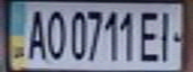0: (66, 6, 87, 61)
1: (118, 7, 139, 61), (103, 7, 121, 62)
7: (84, 6, 103, 61)
A: (21, 4, 48, 61)
E: (136, 7, 163, 63)
I: (154, 6, 181, 62)
O: (42, 6, 69, 61)
